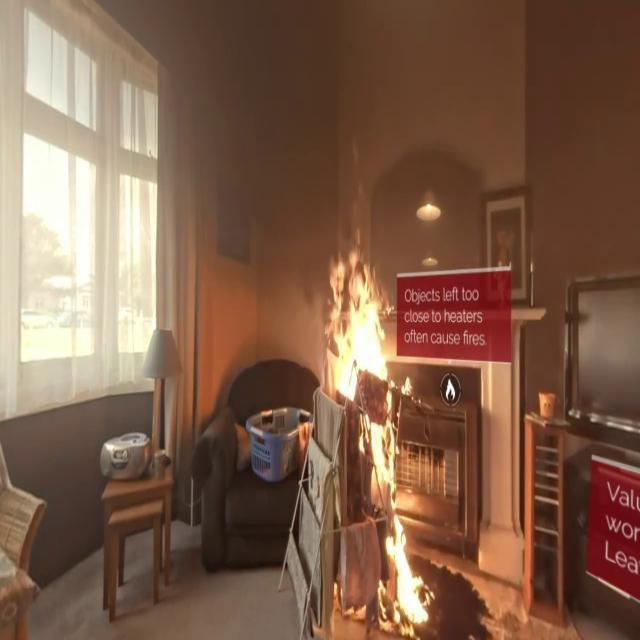Fire: (323, 242, 431, 626), (382, 504, 433, 632)
